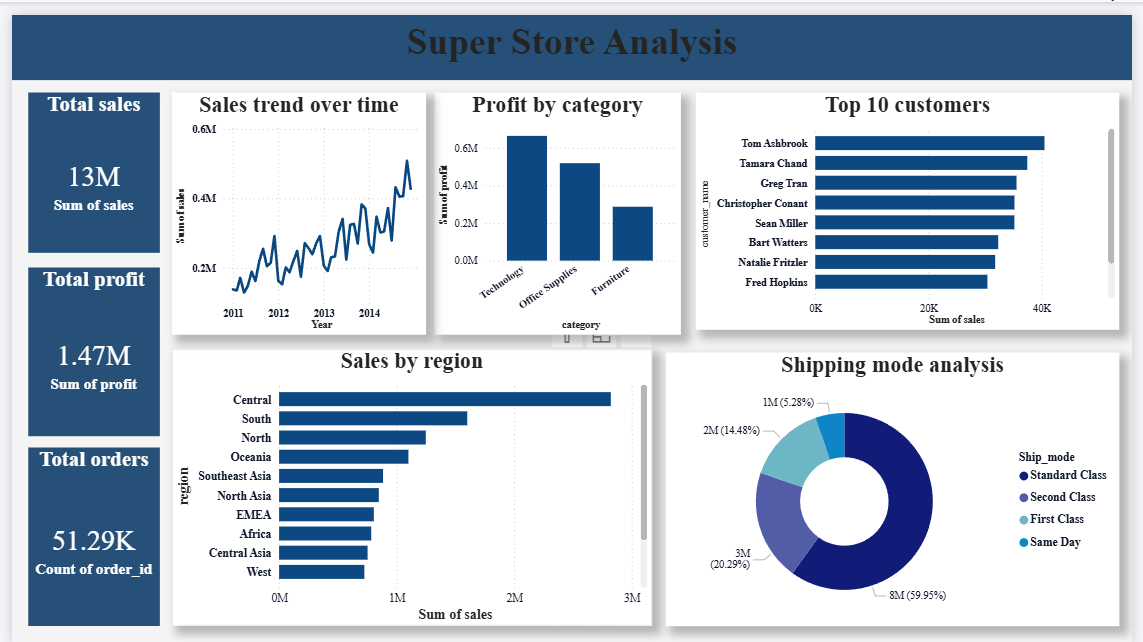

The dashboard page shown, as its layout file describes it:
{"tool":"powerbi","page":{"name":"Page 1","canvas":[1280,720],"ordinal":0},"visuals":[{"type":"clusteredBarChart","title":"Sales by region","fields":{"Category":["SuperStoreOrders.region"],"Y":["Sum(SuperStoreOrders.sales)"]},"box":[182.9,381.4,548.6,317.1],"z":0},{"type":"clusteredColumnChart","title":"Profit by category","fields":{"Category":["SuperStoreOrders.category"],"Y":["Sum(SuperStoreOrders.profit)"]},"box":[482.9,88.6,281.4,277.1],"z":1000},{"type":"lineChart","title":"Sales trend over time","fields":{"Y":["Sum(SuperStoreOrders.sales)"],"Category":["SuperStoreOrders.order_date.Variation.Date Hierarchy.Year","SuperStoreOrders.order_date.Variation.Date Hierarchy.Month"]},"box":[182.9,88.6,290,277.1],"z":2000},{"type":"clusteredBarChart","title":"Top 10 customers","fields":{"Category":["SuperStoreOrders.customer_name"],"Y":["Sum(SuperStoreOrders.sales)"]},"box":[781.4,88.6,484.3,271.4],"z":3000},{"type":"donutChart","title":"Shipping mode analysis","fields":{"Category":["SuperStoreOrders.ship_mode"],"Y":["Sum(SuperStoreOrders.sales)"]},"box":[747.1,385.7,518.6,312.9],"z":4000},{"type":"card","title":"Total sales","fields":{"Values":["Sum(SuperStoreOrders.sales)"]},"box":[18.6,88.6,150,182.9],"z":5000},{"type":"card","title":"Total profit","fields":{"Values":["Sum(SuperStoreOrders.profit)"]},"box":[18.6,288.6,150,192.9],"z":6000},{"type":"card","title":"Total orders","fields":{"Values":["CountNonNull(SuperStoreOrders.order_id)"]},"box":[18.6,494.3,150,204.3],"z":7000},{"type":"textbox","box":[0,0,1280,74.3],"z":7001}]}

Visuals, with their boxes in screenshot pixels (x1, y1, x2, y2), scaled from the page's 1280x720 canvas onto the 1143x642 screenshot:
"Sales by region" clusteredBarChart: {"left": 163, "top": 340, "right": 653, "bottom": 623}
"Profit by category" clusteredColumnChart: {"left": 431, "top": 79, "right": 682, "bottom": 326}
"Sales trend over time" lineChart: {"left": 163, "top": 79, "right": 422, "bottom": 326}
"Top 10 customers" clusteredBarChart: {"left": 698, "top": 79, "right": 1130, "bottom": 321}
"Shipping mode analysis" donutChart: {"left": 667, "top": 344, "right": 1130, "bottom": 623}
"Total sales" card: {"left": 17, "top": 79, "right": 151, "bottom": 242}
"Total profit" card: {"left": 17, "top": 257, "right": 151, "bottom": 429}
"Total orders" card: {"left": 17, "top": 441, "right": 151, "bottom": 623}
textbox: {"left": 0, "top": 0, "right": 1142, "bottom": 66}
